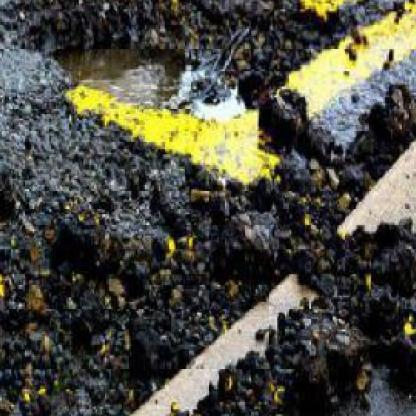pothole: (0, 0, 346, 107)
